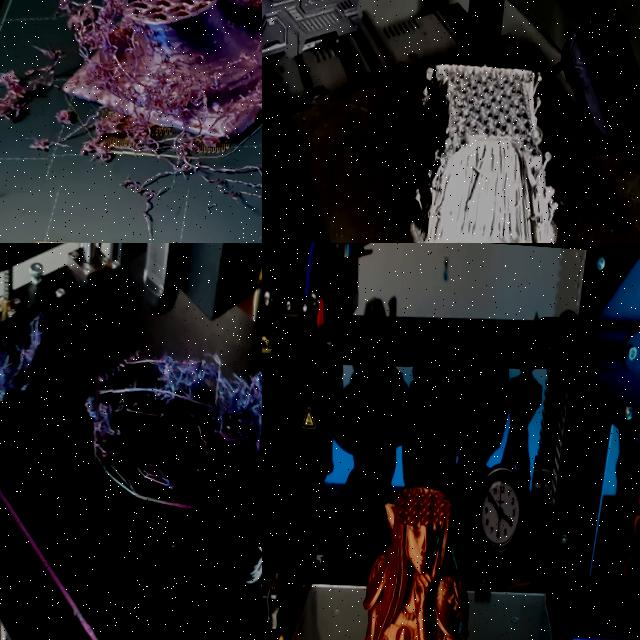spaghetti: (45, 0, 262, 213), (151, 339, 262, 467), (0, 292, 61, 475), (0, 39, 51, 141), (74, 372, 126, 466), (134, 449, 184, 506)
